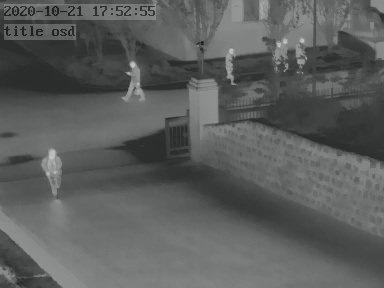person: (40, 146, 63, 198), (124, 59, 143, 99), (272, 39, 285, 72), (294, 38, 306, 72), (225, 46, 236, 82)
